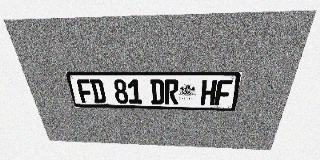1: (127, 79, 142, 104)
8: (113, 79, 129, 104)
D: (89, 79, 106, 103), (150, 79, 164, 104)
F: (214, 80, 233, 106), (76, 79, 94, 103)
H: (200, 80, 217, 105)
R: (164, 79, 179, 105)
